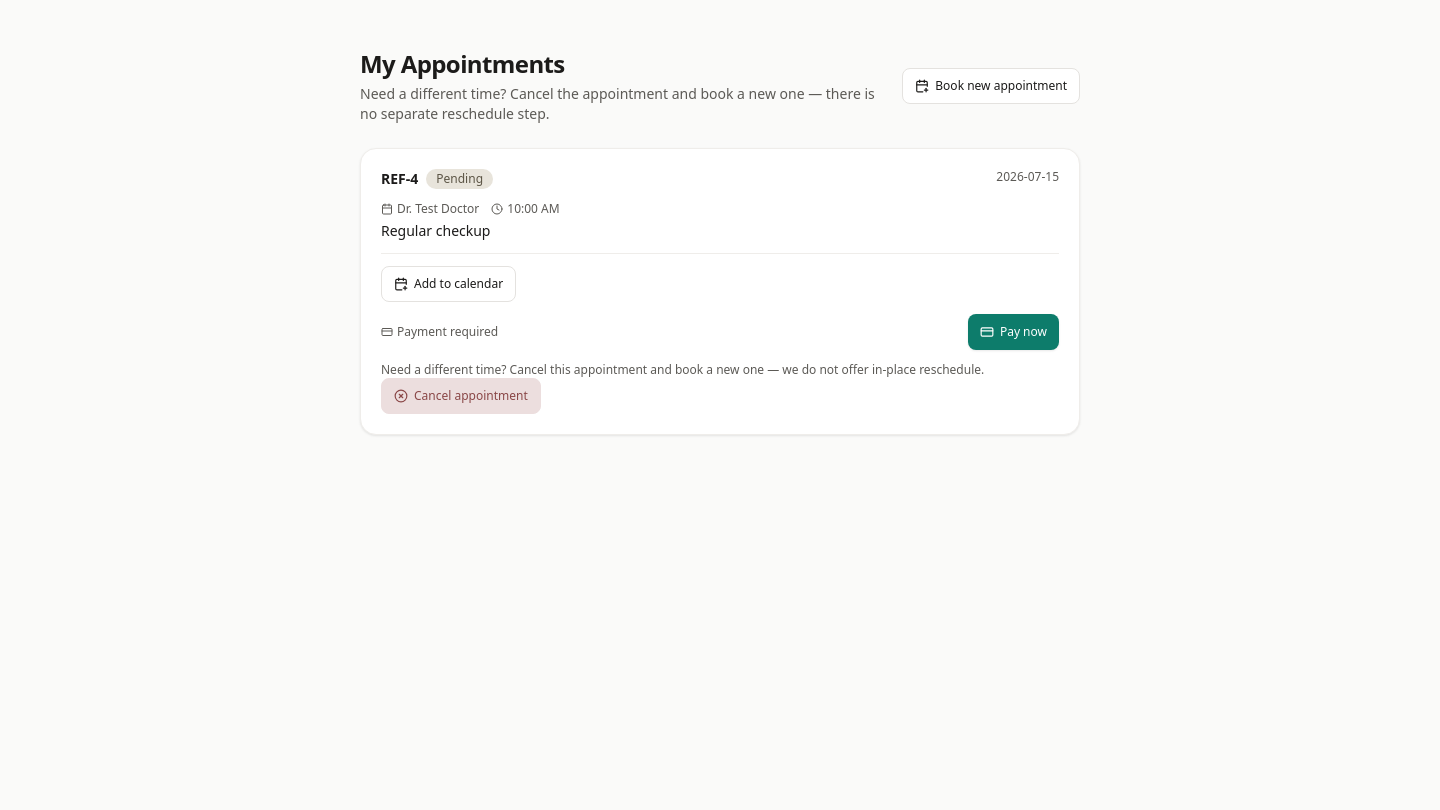
MyAppointmentsPage › cancel modal › opens modal when clicking Cancel appointment
Check: the text "REF-4" is shown, box [381,169,418,189]
Click the button "Cancel appointment" at (461, 396), box [381,378,541,414]
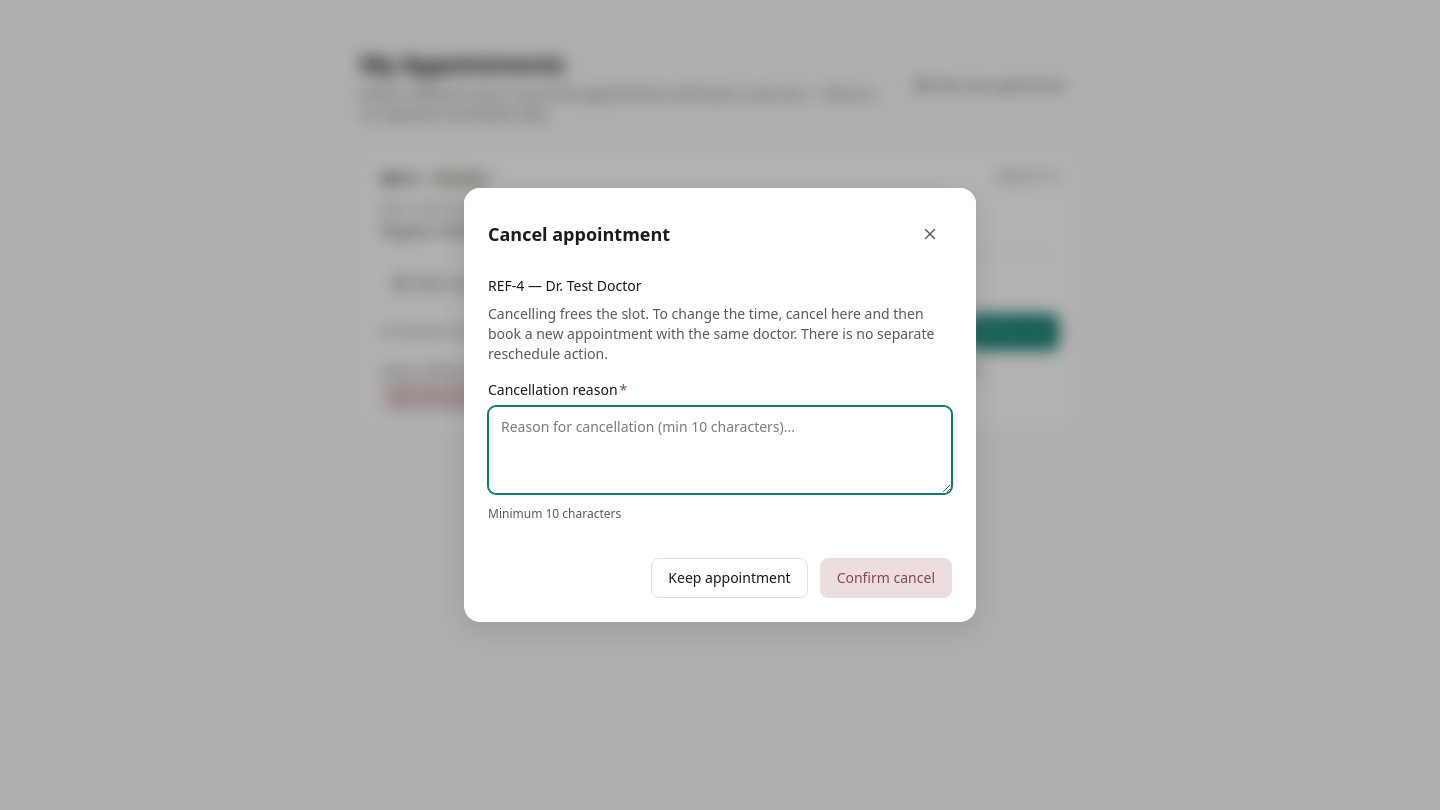
Check: the heading "Cancel appointment" is shown, box [488,220,678,248]
Check: the text "there is no separate reschedule action" is shown, box [488,324,934,363]
